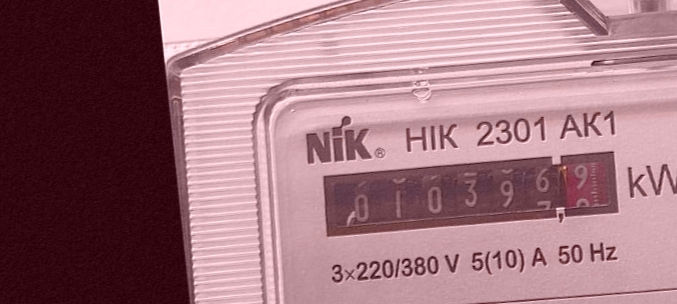0: (423, 181, 448, 217), (350, 189, 373, 224)
1: (391, 186, 407, 220)
3: (461, 176, 483, 211)
6: (532, 164, 555, 195)
9: (496, 176, 519, 211), (569, 161, 593, 193)
screen: (306, 132, 633, 258)
